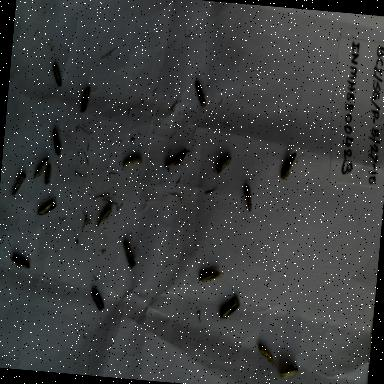pbw: (276, 147, 298, 184), (87, 284, 111, 316), (76, 82, 98, 116), (28, 150, 51, 182), (34, 194, 58, 224), (214, 151, 237, 182), (196, 263, 224, 287), (218, 294, 242, 322), (5, 252, 34, 274), (119, 240, 139, 271), (191, 79, 210, 109), (254, 341, 276, 366), (94, 203, 114, 230), (49, 62, 68, 90), (48, 127, 66, 156), (11, 170, 26, 201), (161, 154, 185, 173), (278, 362, 300, 382), (120, 152, 144, 170), (242, 182, 255, 214), (42, 162, 54, 186), (178, 144, 192, 160)
